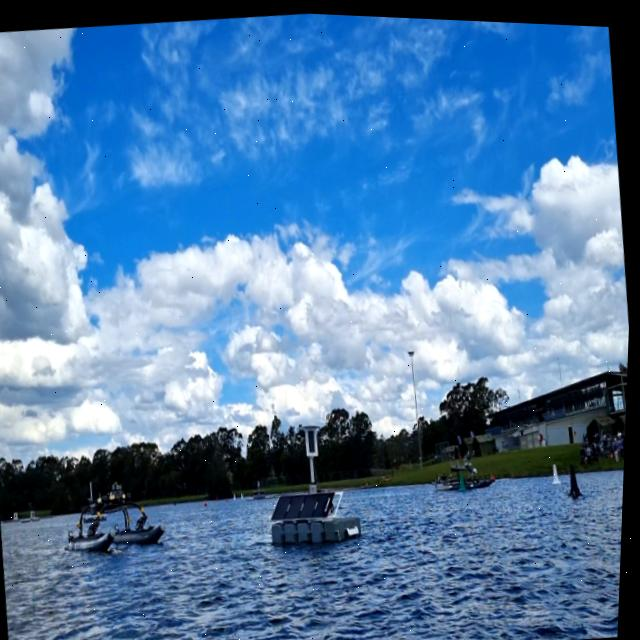led: (308, 426, 321, 452)
